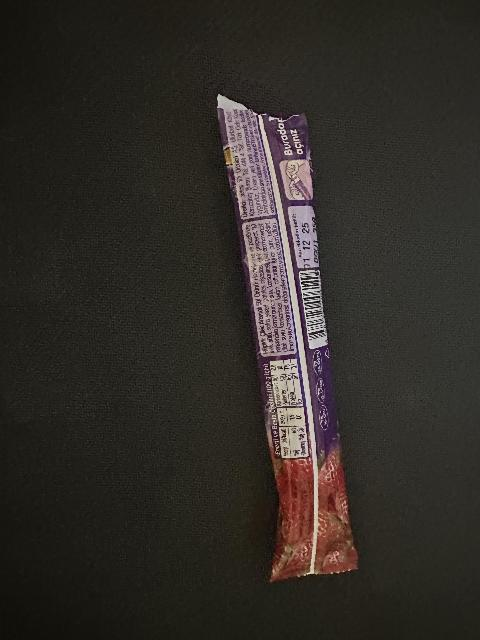Plastik: (200, 92, 371, 586)
